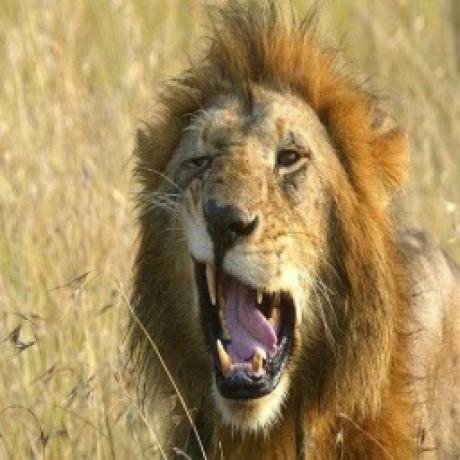Lion: (126, 0, 425, 460)
